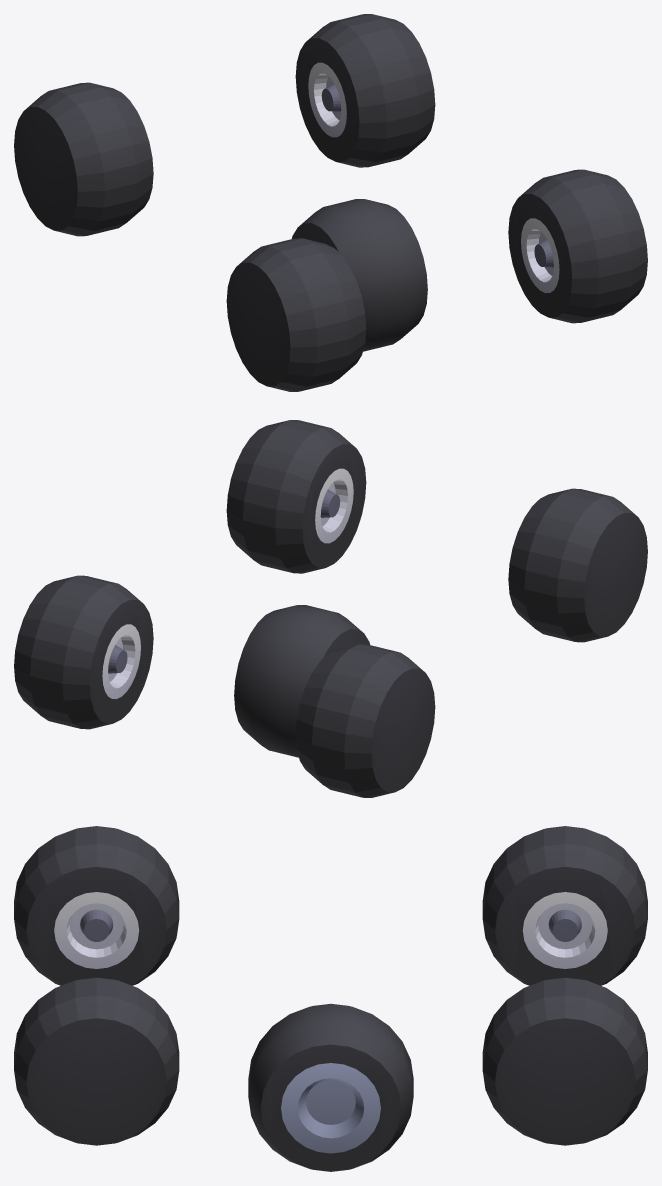
Rendered from rusty_truck_3d.glb.
3 views of the same model, one above another, from view 1: azimuth 30°, elevation 25°; view 2: azimuth 150°, elevation 25°; view 3: azimuth 270°, elevation 25° (orthographic). The views are drawn at different scales.
Visible parts, largest first — view 1: Wheel_FR, Wheel_RL, Wheel_FL, Wheel_RR, Chassis; view 2: Wheel_FL, Wheel_RR, Wheel_FR, Wheel_RL, Chassis; view 3: Wheel_FR, Wheel_RR, Chassis, Wheel_FL, Wheel_RL.
Part boxes in pixels (<box>): Wheel_FR: <box>295,14,435,167</box>; Wheel_RL: <box>226,238,366,391</box>; Wheel_FL: <box>14,82,153,236</box>; Wheel_RR: <box>508,169,647,323</box>; Chassis: <box>291,199,427,351</box>; Wheel_FL: <box>295,644,435,797</box>; Wheel_RR: <box>226,420,366,573</box>; Wheel_FR: <box>14,575,153,729</box>; Wheel_RL: <box>508,488,647,642</box>; Chassis: <box>234,605,370,757</box>; Wheel_FR: <box>482,977,647,1145</box>; Wheel_RR: <box>14,977,179,1145</box>; Chassis: <box>248,1003,413,1171</box>; Wheel_FL: <box>482,826,647,985</box>; Wheel_RL: <box>14,826,179,985</box>.
Bounding box in the file's own units: 1.65 × 0.95 × 2.3.
Materials: 1 (1 with a texture image).
